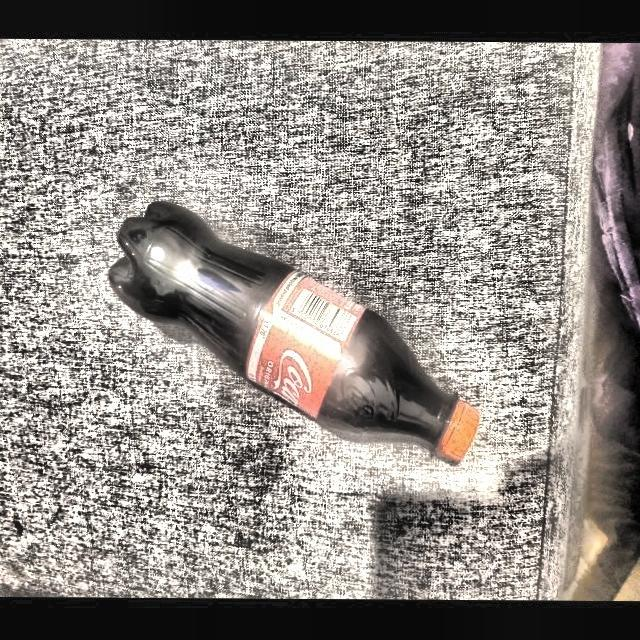coke-bottle: (108, 203, 478, 465)
